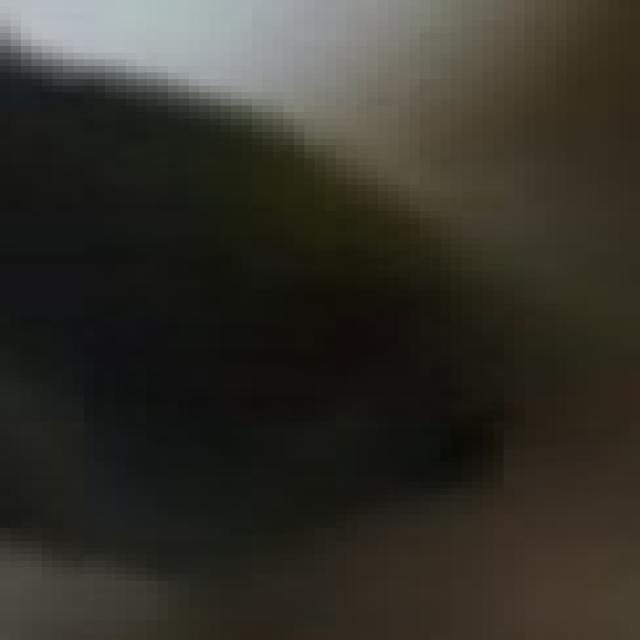fish: (10, 0, 639, 634)
